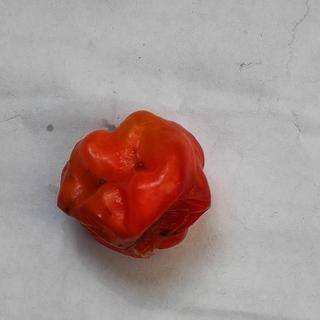Grade-B: (57, 105, 216, 261)
